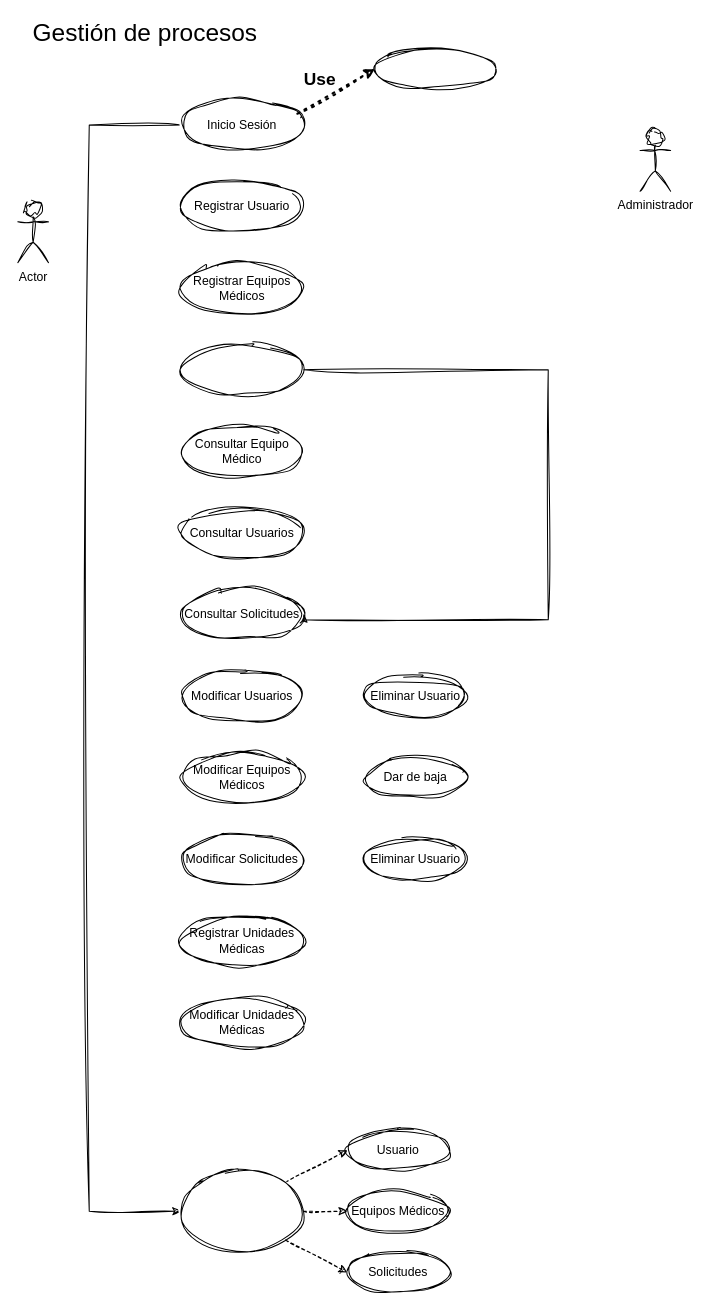
The diagram is 711 pixels wide and 1311 high, and some of its shapes have lost their labels. Here are the shapes that lost their labels. From the top down, the box of each, then its label:
(374, 47, 497, 89): Identificar Usuario
(180, 343, 303, 395): Registrar Solicitud
(180, 1169, 303, 1252): Generar Reportes
